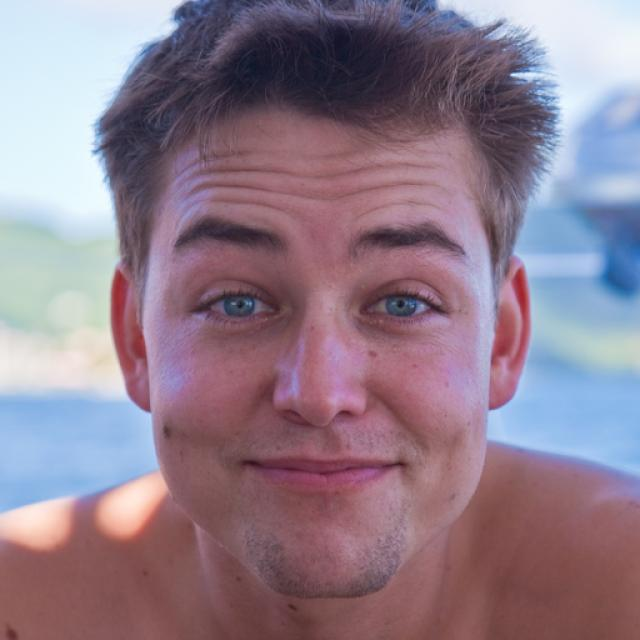Spots: (155, 417, 175, 451), (363, 343, 381, 364)
